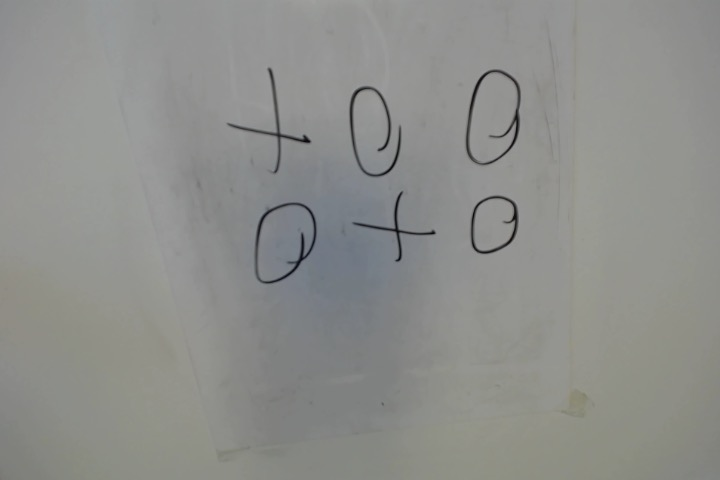0: (463, 65, 525, 168), (341, 84, 406, 181), (251, 198, 323, 285), (467, 193, 520, 260)
x: (240, 71, 308, 176), (359, 189, 433, 264)
